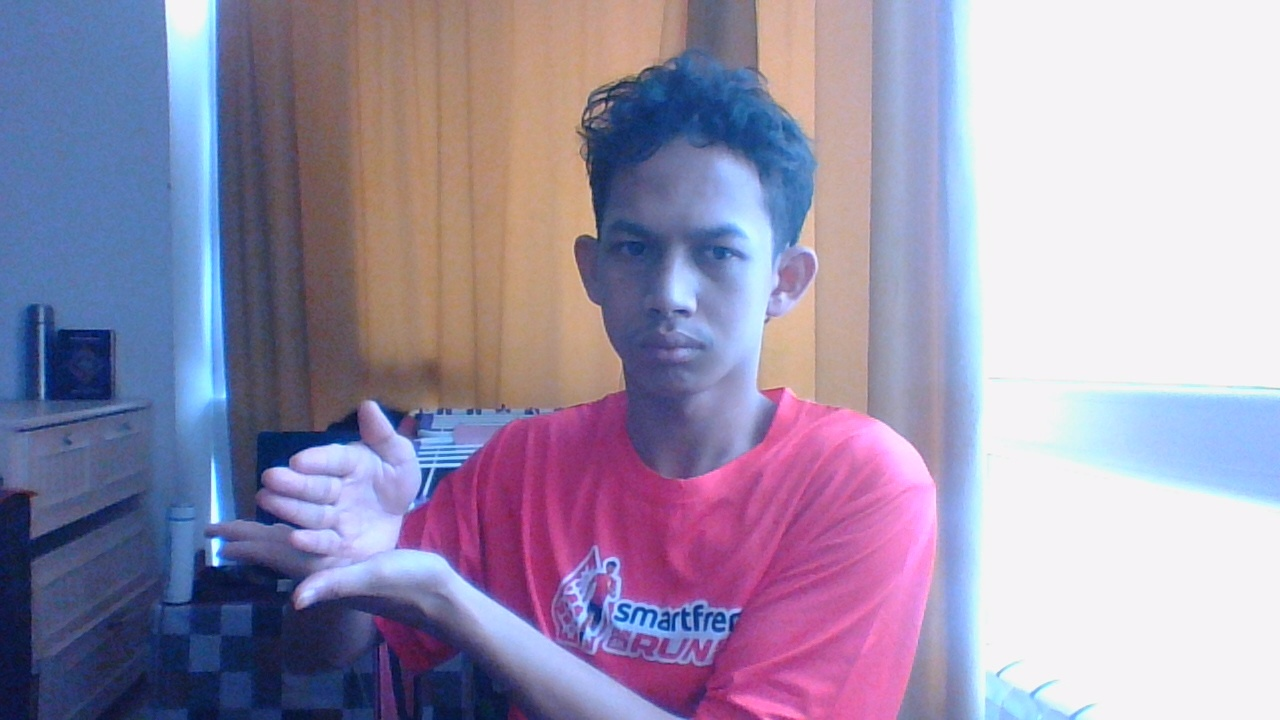stop: (194, 363, 454, 674)
